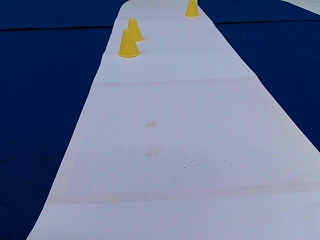cone: (118, 29, 141, 58), (126, 19, 143, 39), (185, 0, 199, 17)
